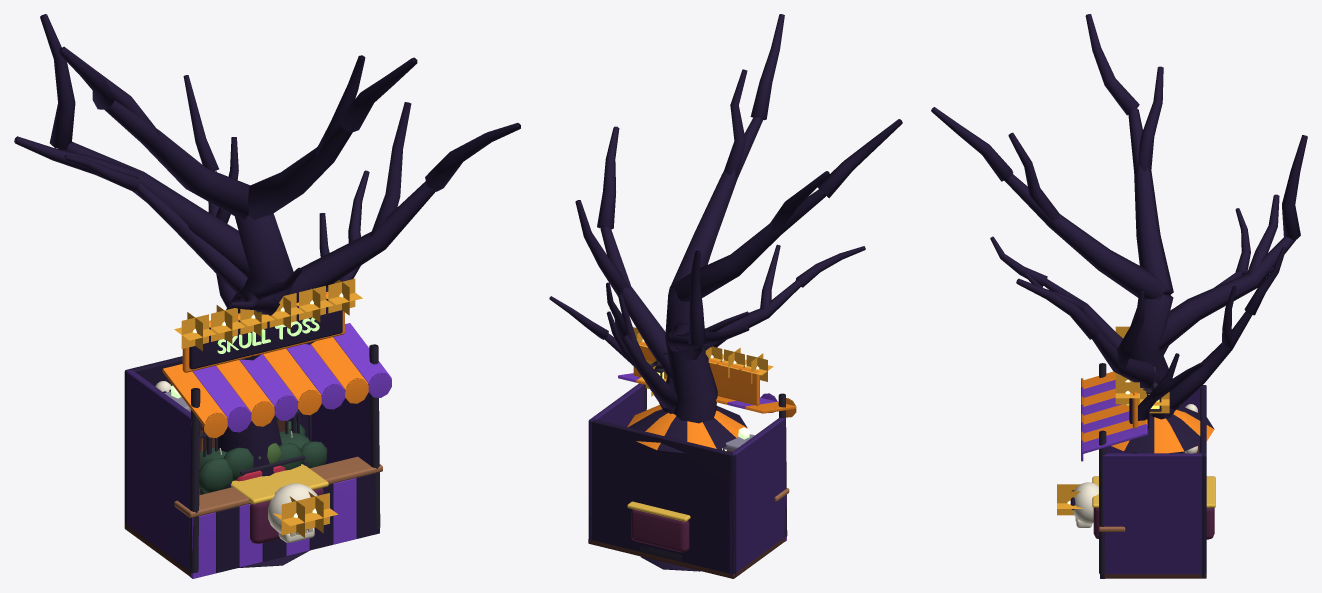
File: fright_kit.glb
3 views of the same model, side by side, from view 1: azimuth 30°, elevation 25°; view 2: azimuth 150°, elevation 25°; view 3: azimuth 270°, elevation 25° (orthographic). The views are drawn at different scales.
Parts seen in each view (by area): view 1: Booth, TreeB, TreeA, GhostCar, Hedge, Fence; view 2: Booth, TreeB, TreeA, AppleCart, GhostCar; view 3: TreeB, Booth, TreeA, AppleCart, GhostCar.
Part boxes in pixels (<box>): Booth: <box>124,278,391,578</box>; TreeB: <box>14,14,520,567</box>; TreeA: <box>64,75,369,344</box>; GhostCar: <box>228,455,337,543</box>; Hedge: <box>199,421,327,494</box>; Fence: <box>164,385,311,494</box>; Booth: <box>588,327,796,578</box>; TreeB: <box>575,14,902,571</box>; TreeA: <box>549,244,865,413</box>; AppleCart: <box>627,405,747,453</box>; GhostCar: <box>627,450,726,561</box>; TreeB: <box>931,14,1307,453</box>; Booth: <box>1081,326,1206,578</box>; TreeA: <box>990,208,1285,428</box>; AppleCart: <box>1111,405,1214,453</box>; GhostCar: <box>1057,476,1215,539</box>.
Bounding box in the file's own units: 7.11 × 9.74 × 7.17.
